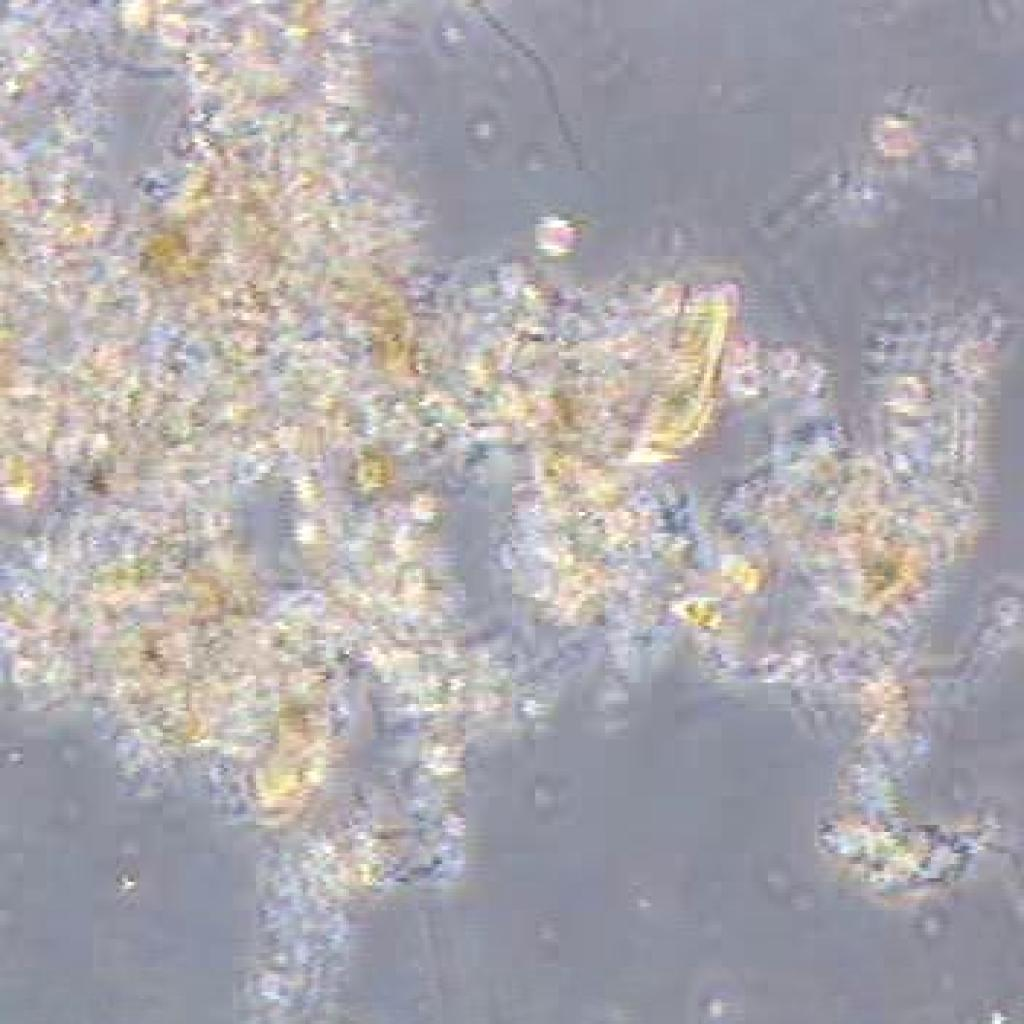Chaetonotus: (634, 258, 730, 474)
